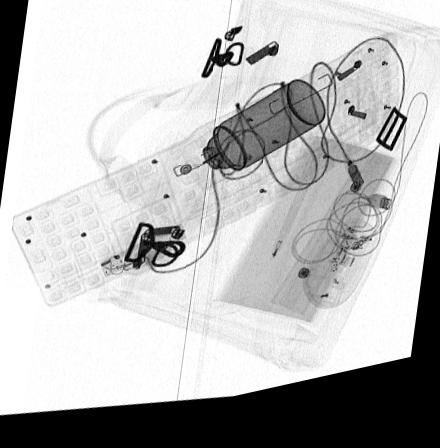Sprayer: (182, 93, 325, 198)
